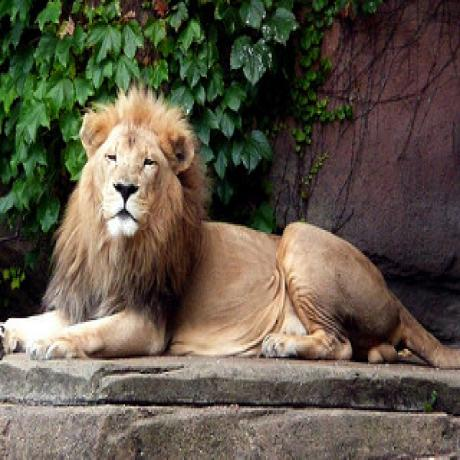Lion: (0, 84, 460, 367)
